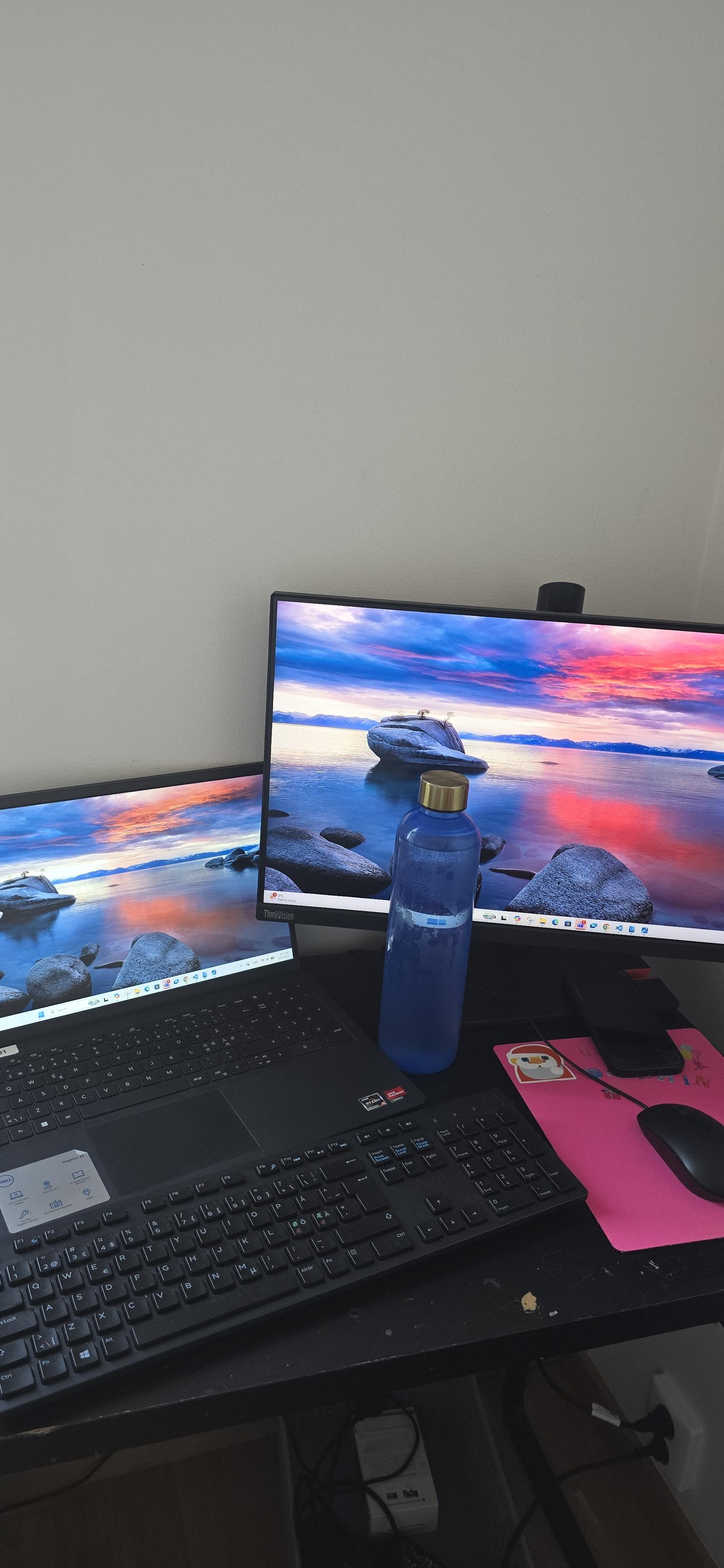bottle: (388, 757, 483, 1094), (584, 985, 702, 1082)
